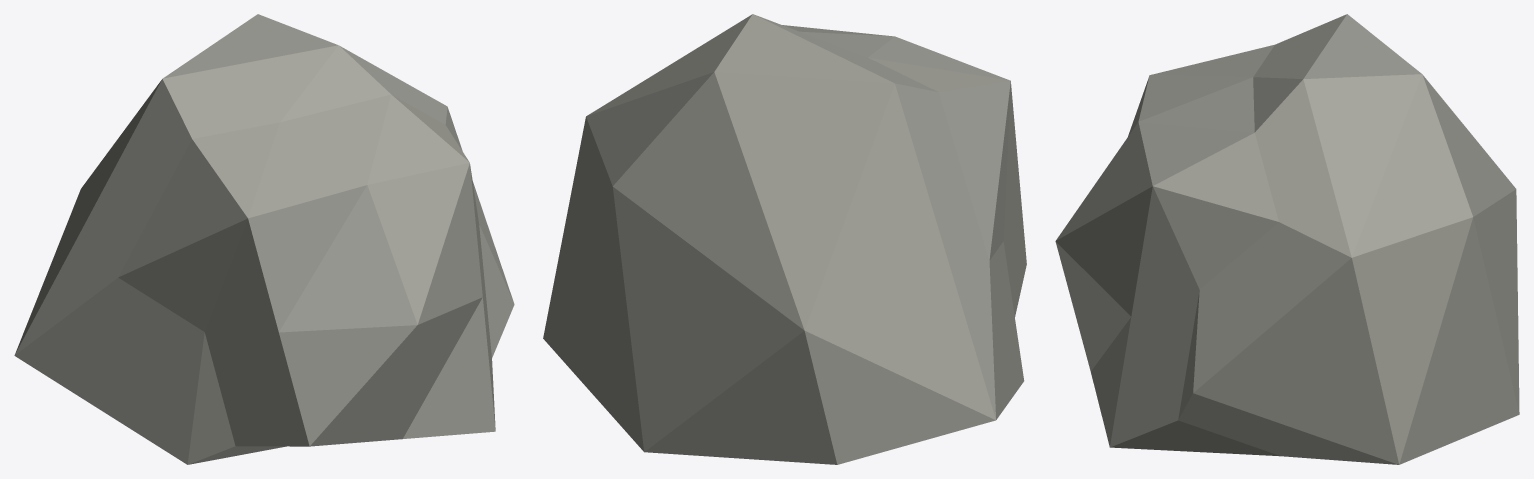
The model's file is Rock1.fbx.
3 renders of one model, left to right at view 1: azimuth 30°, elevation 25°; view 2: azimuth 150°, elevation 25°; view 3: azimuth 270°, elevation 25°, orthographic. The views are drawn at different scales.
Parts seen in each view (by area): view 1: Rock1; view 2: Rock1; view 3: Rock1.
Boxes of the visible parts, x1,y1,x2,y2 form: Rock1: [14, 14, 514, 464]; Rock1: [543, 14, 1026, 464]; Rock1: [1055, 14, 1519, 464].
Size of the model in its own units: 121 by 90.32 by 112.
